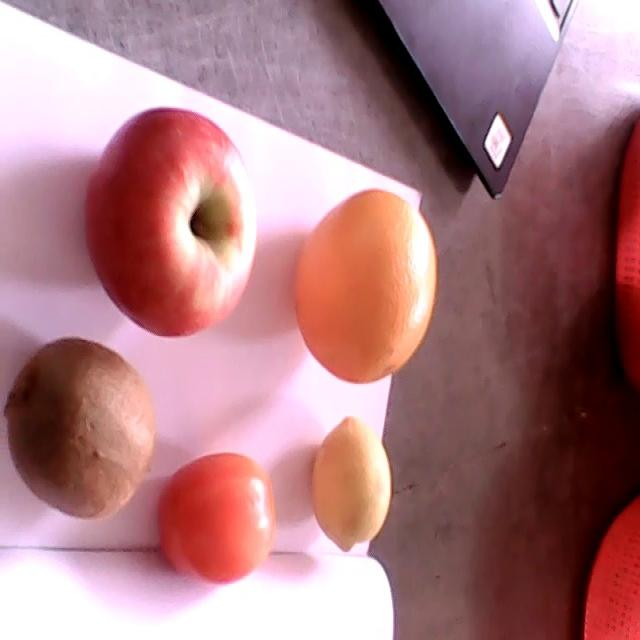apple: (83, 109, 260, 337)
kiwi: (2, 337, 156, 518)
lemon: (311, 418, 392, 553)
orange: (293, 190, 437, 385)
tomato: (158, 452, 279, 583)
